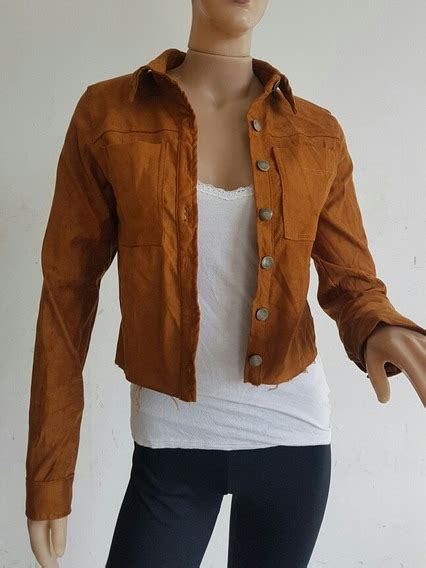gamuza: (24, 53, 426, 521)
